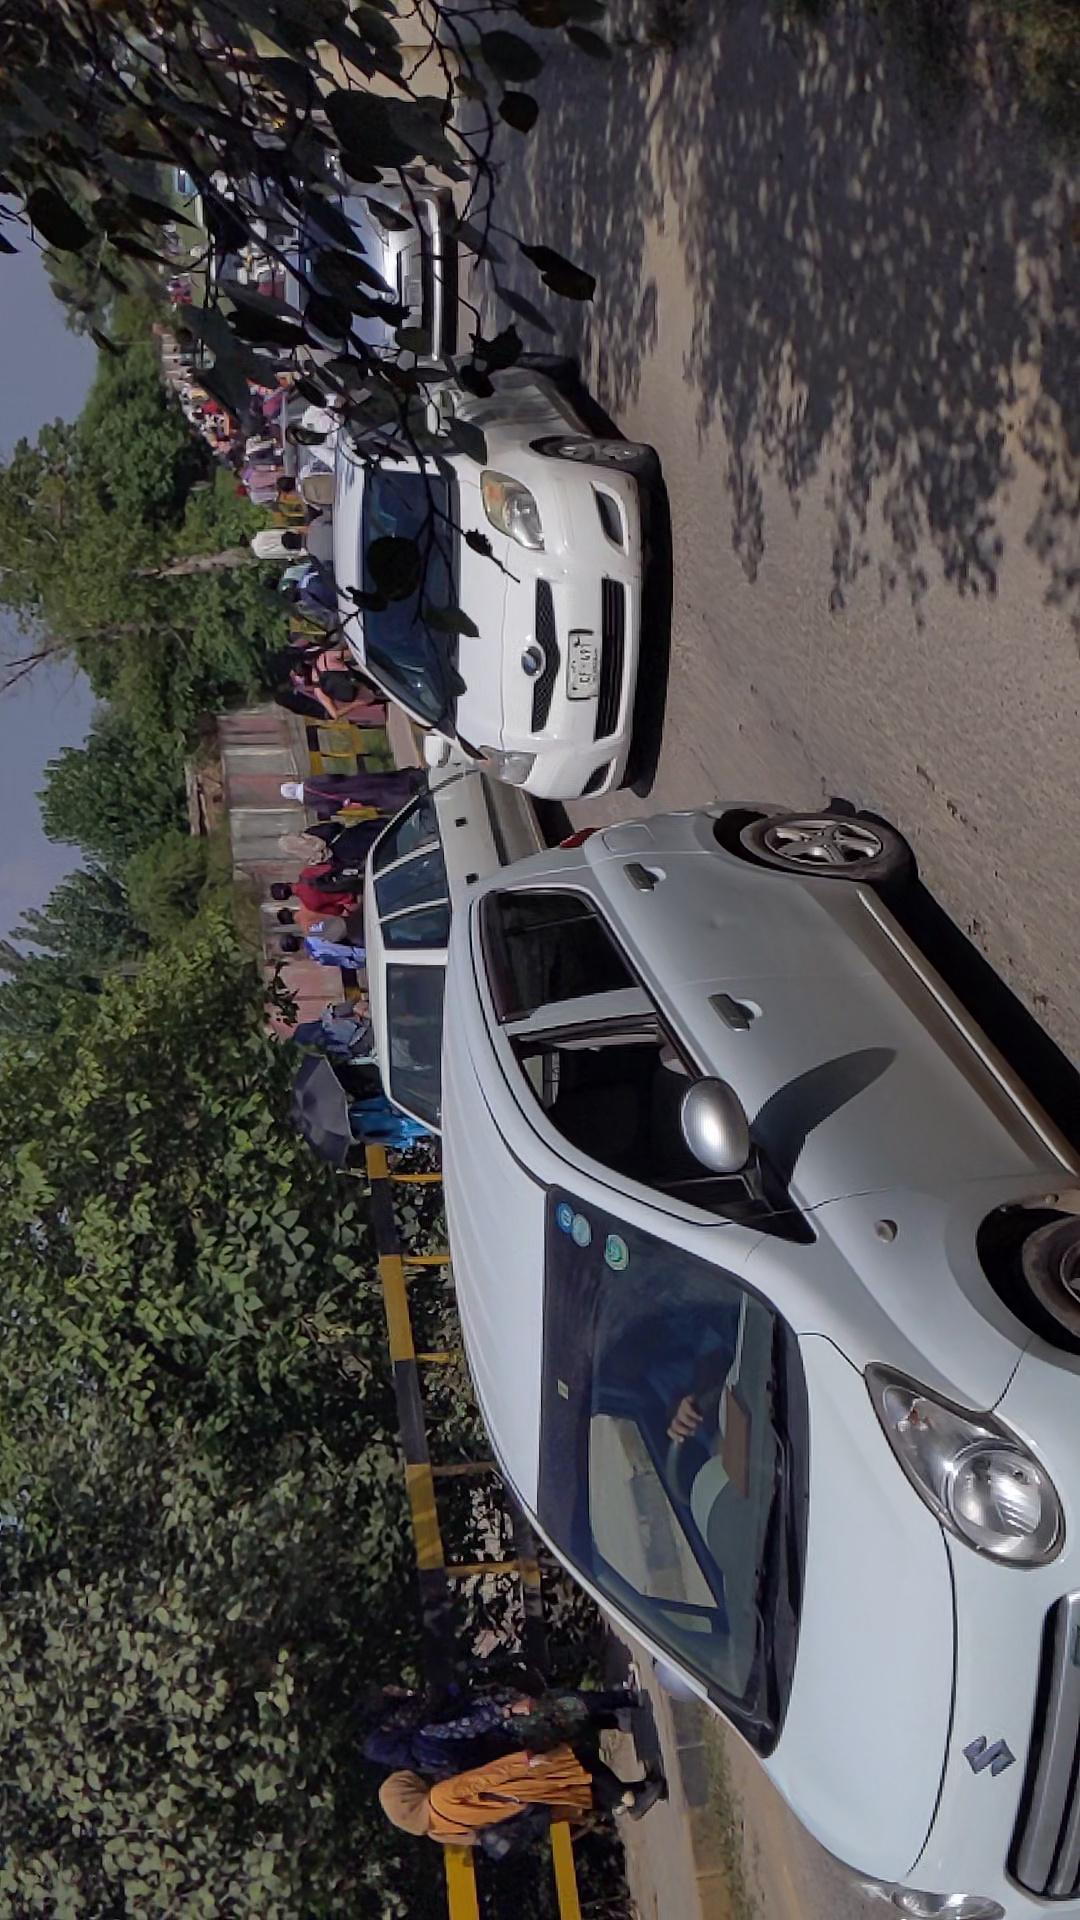windshield: (82, 924, 430, 1493)
